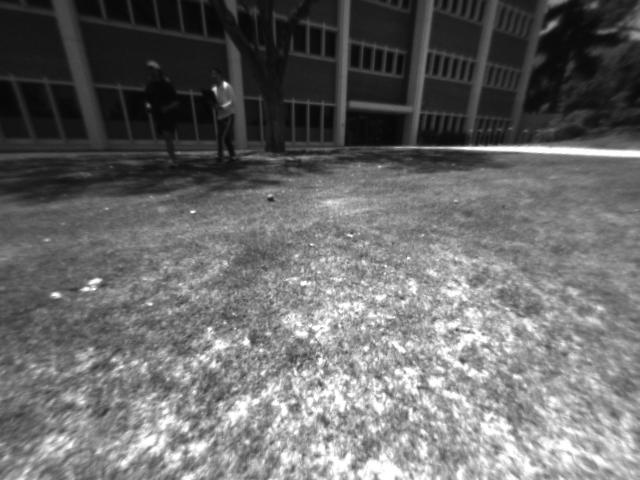dogtoy: (260, 185, 287, 207)
